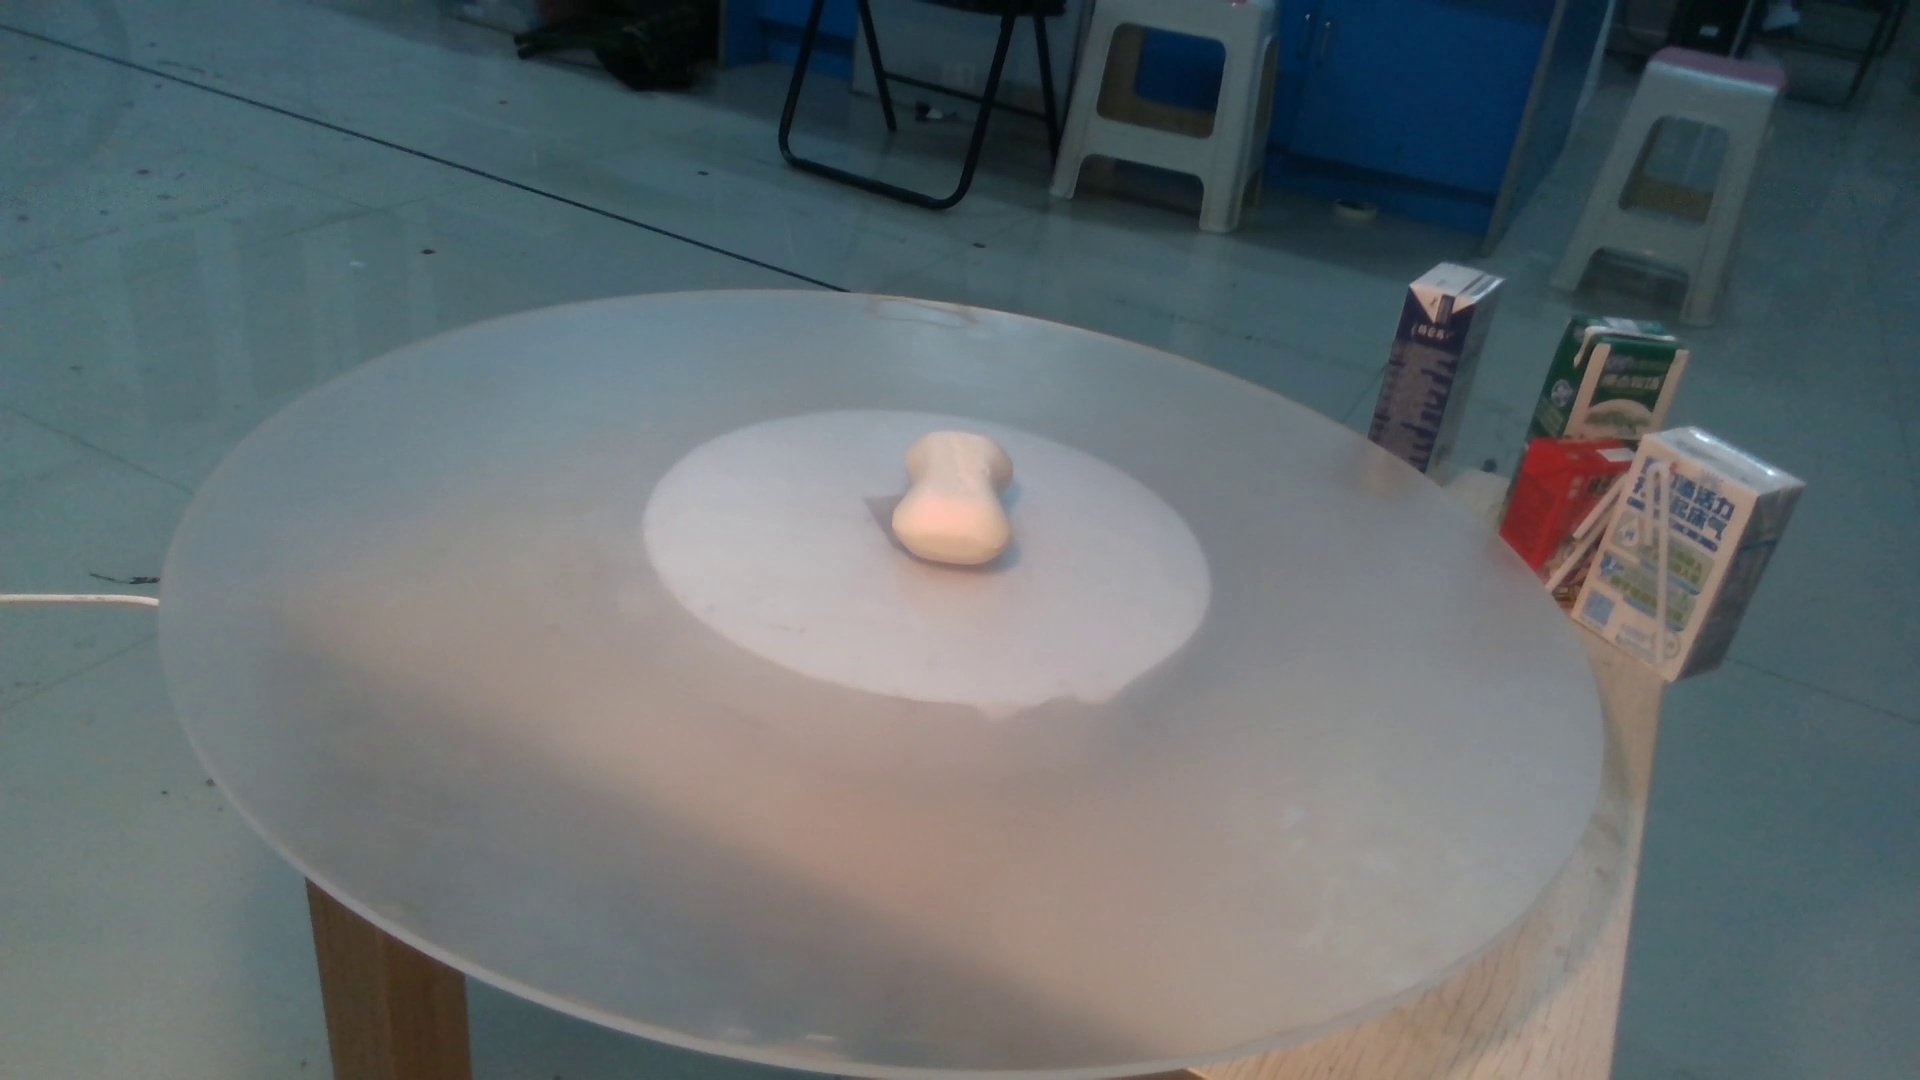CA003_1: (837, 411, 1059, 574)
